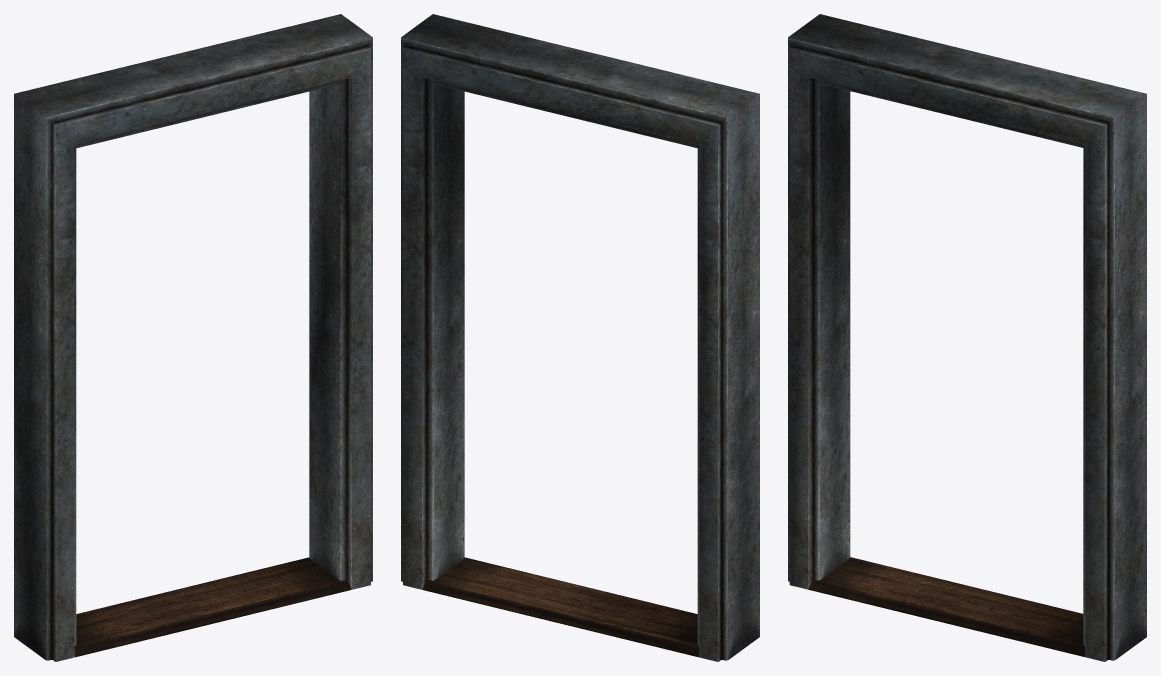
Rendered from scanningroom_doorframe_narrow.dae.
The picture shows the model from 3 angles, left to right: view 1: azimuth 30°, elevation 25°; view 2: azimuth 150°, elevation 25°; view 3: azimuth 330°, elevation 25°; orthographic projection.
Visible parts, largest first — view 1: pCube2; view 2: pCube2; view 3: pCube2.
Part boxes in pixels (box(x1,y1,x2,y2)): pCube2: box(14, 14, 372, 661); pCube2: box(401, 14, 759, 661); pCube2: box(788, 14, 1146, 661).
Bounding box in the file's own units: 1.87 × 2.97 × 0.4.
